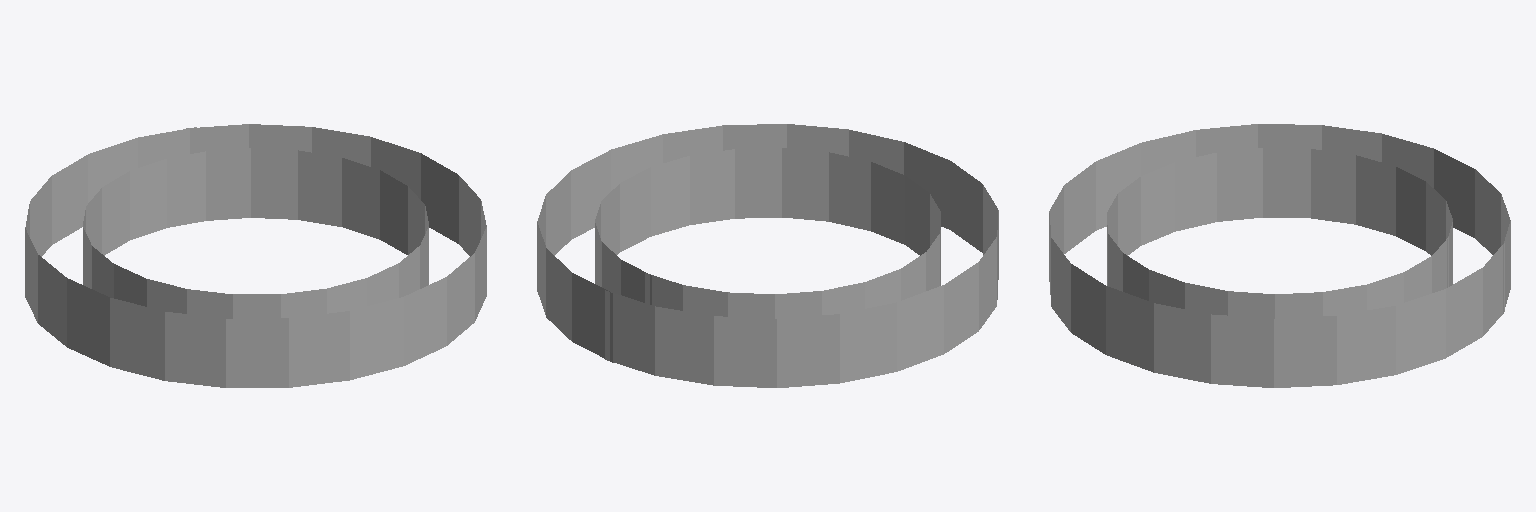
The model's file is walls.obj.
The picture shows the model from 3 angles: view 1: azimuth 30°, elevation 25°; view 2: azimuth 150°, elevation 25°; view 3: azimuth 270°, elevation 25°; orthographic projection.
Parts seen in each view (by area): view 1: WallCollider; view 2: WallCollider; view 3: WallCollider.
Part boxes in pixels (bbox=[...]): WallCollider: bbox=[25, 124, 486, 387]; WallCollider: bbox=[537, 124, 998, 387]; WallCollider: bbox=[1049, 124, 1510, 387].
Bounding box in the file's own units: 246 × 40.97 × 246.